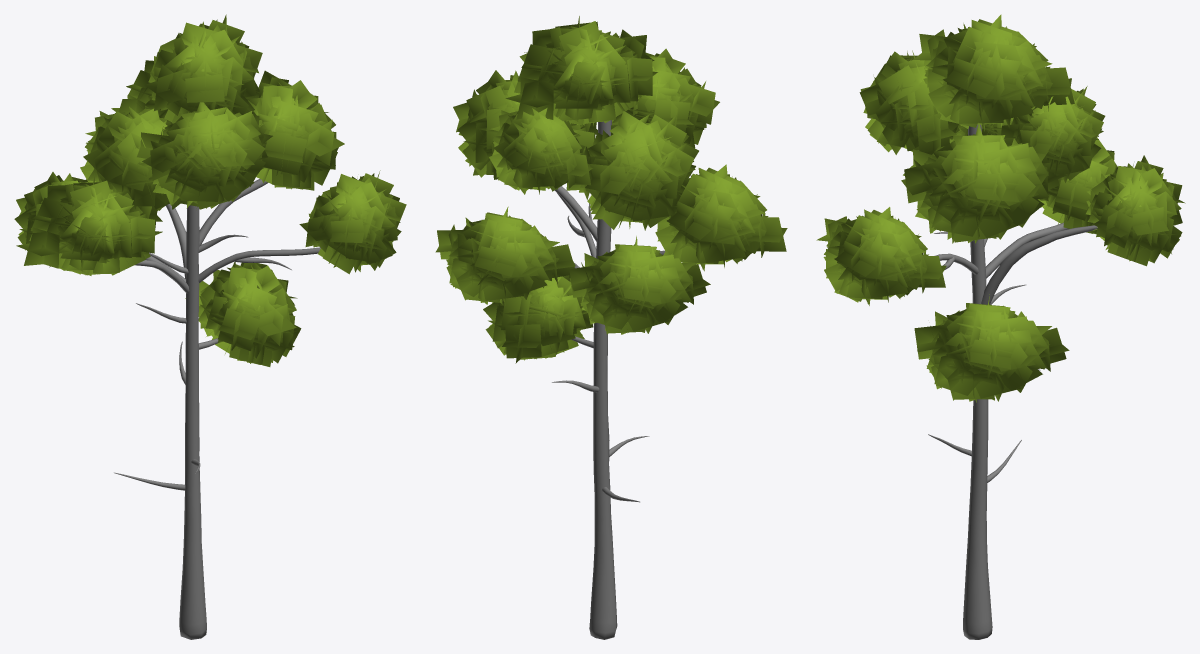
File: SM_tree_birch_02.fbx
The picture shows the model from 3 angles, left to right: view 1: azimuth 30°, elevation 25°; view 2: azimuth 150°, elevation 25°; view 3: azimuth 270°, elevation 25°; orthographic projection. The views are drawn at different scales.
Visible parts, largest first — view 1: Object3427688; view 2: Object3427688; view 3: Object3427688.
Boxes of the visible parts, x1,y1,x2,y2 form: Object3427688: [14, 14, 406, 639]; Object3427688: [435, 16, 787, 639]; Object3427688: [816, 14, 1185, 639].
Bounding box in the file's own units: 190 × 326 × 175.
